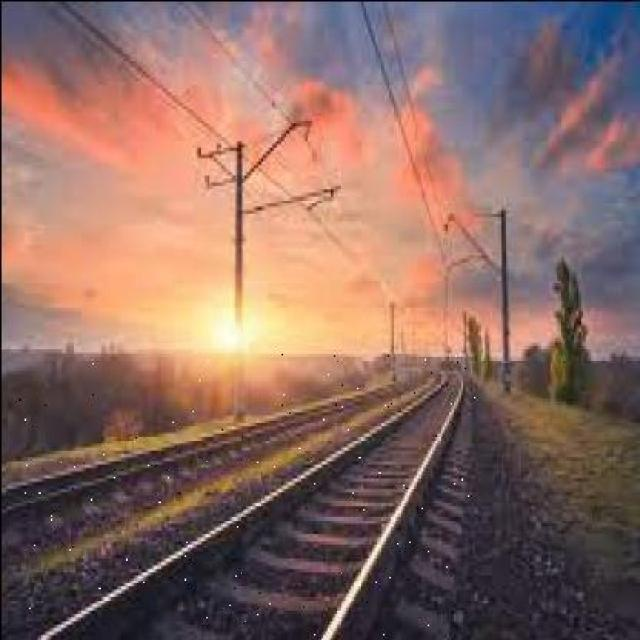rail: (6, 354, 476, 636)
